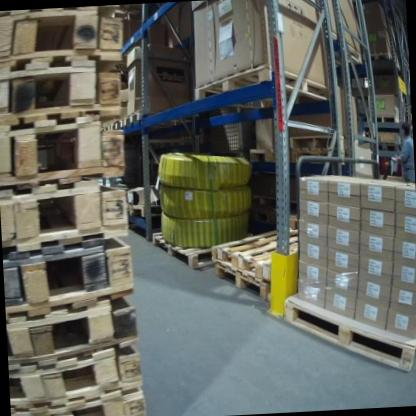pallet: (283, 270, 416, 379), (6, 249, 136, 316), (1, 120, 127, 189), (3, 186, 130, 251), (191, 56, 330, 114), (11, 346, 143, 406), (0, 11, 125, 74), (9, 300, 135, 362), (0, 65, 128, 120), (209, 215, 296, 283), (152, 220, 218, 277), (247, 139, 357, 170), (213, 260, 273, 306), (330, 24, 365, 79), (122, 106, 182, 129), (289, 131, 343, 154), (125, 200, 163, 219), (375, 140, 406, 156), (373, 109, 402, 126), (108, 116, 127, 137), (362, 49, 395, 60)
pallet_truck: (379, 152, 403, 181)
stillage: (195, 102, 261, 164)
